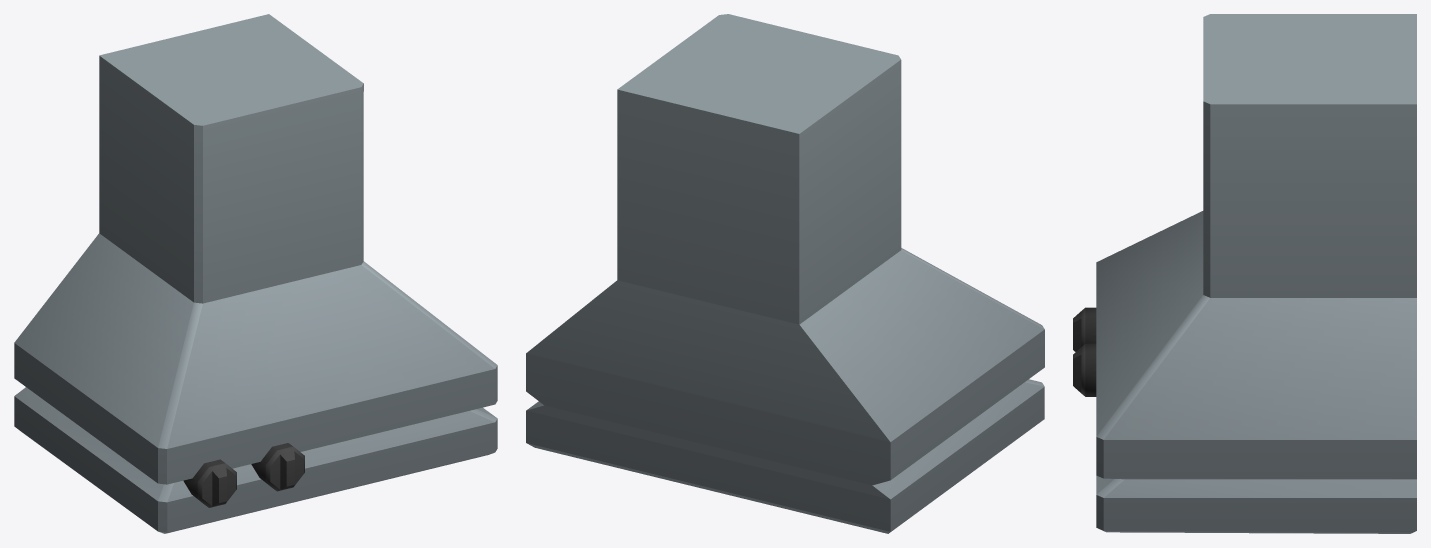
Rendered from Extractorhood.glb.
3 renders of one model, left to right at view 1: azimuth 30°, elevation 25°; view 2: azimuth 150°, elevation 25°; view 3: azimuth 270°, elevation 25°, orthographic. The views are drawn at different scales.
Parts seen in each view (by area): view 1: extractorhood; view 2: extractorhood; view 3: extractorhood.
Part boxes in pixels (left/top/right/bottom): extractorhood: left=14, top=14, right=497, bottom=533; extractorhood: left=526, top=14, right=1044, bottom=533; extractorhood: left=1073, top=14, right=1416, bottom=533.
Bounding box in the file's own units: 2 × 2 × 1.61.
Materials: 1 (1 with a texture image).
